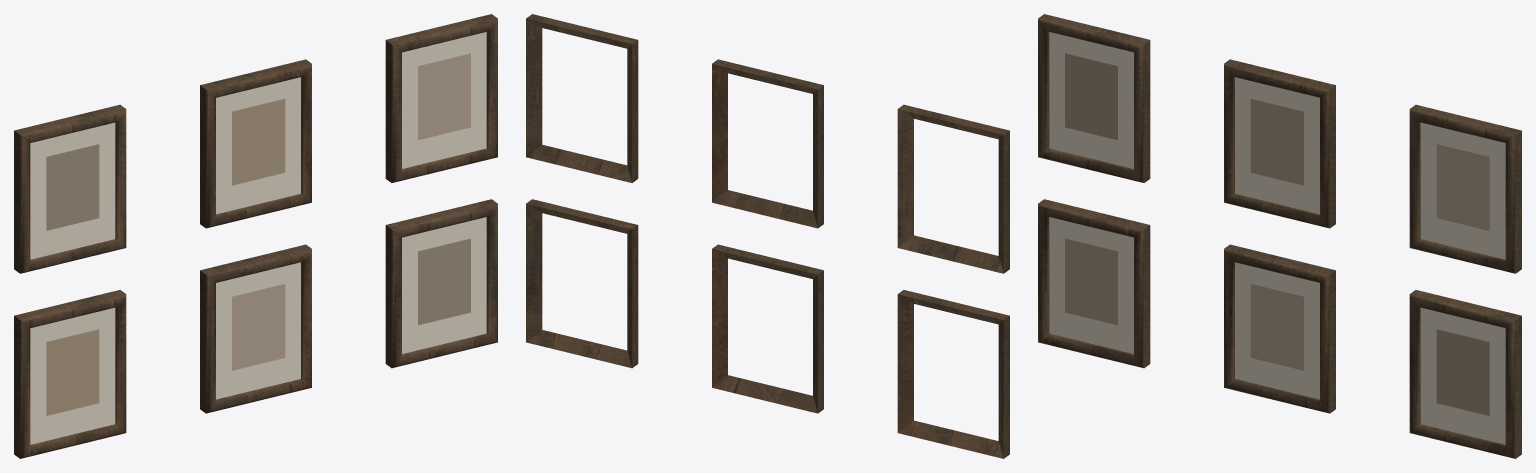
File: ink-photos.glb
The picture shows the model from 3 angles, left to right: view 1: azimuth 30°, elevation 25°; view 2: azimuth 150°, elevation 25°; view 3: azimuth 330°, elevation 25°; orthographic projection.
Visible parts, largest first — view 1: photos; view 2: photos; view 3: photos.
Boxes of the visible parts, box(x1,y1,x2,y2) form: photos: box(14, 14, 497, 458); photos: box(526, 14, 1009, 458); photos: box(1038, 14, 1521, 458).
Bounding box in the file's own units: 1.08 × 0.7 × 0.031.
Materials: 5 (1 with a texture image).
